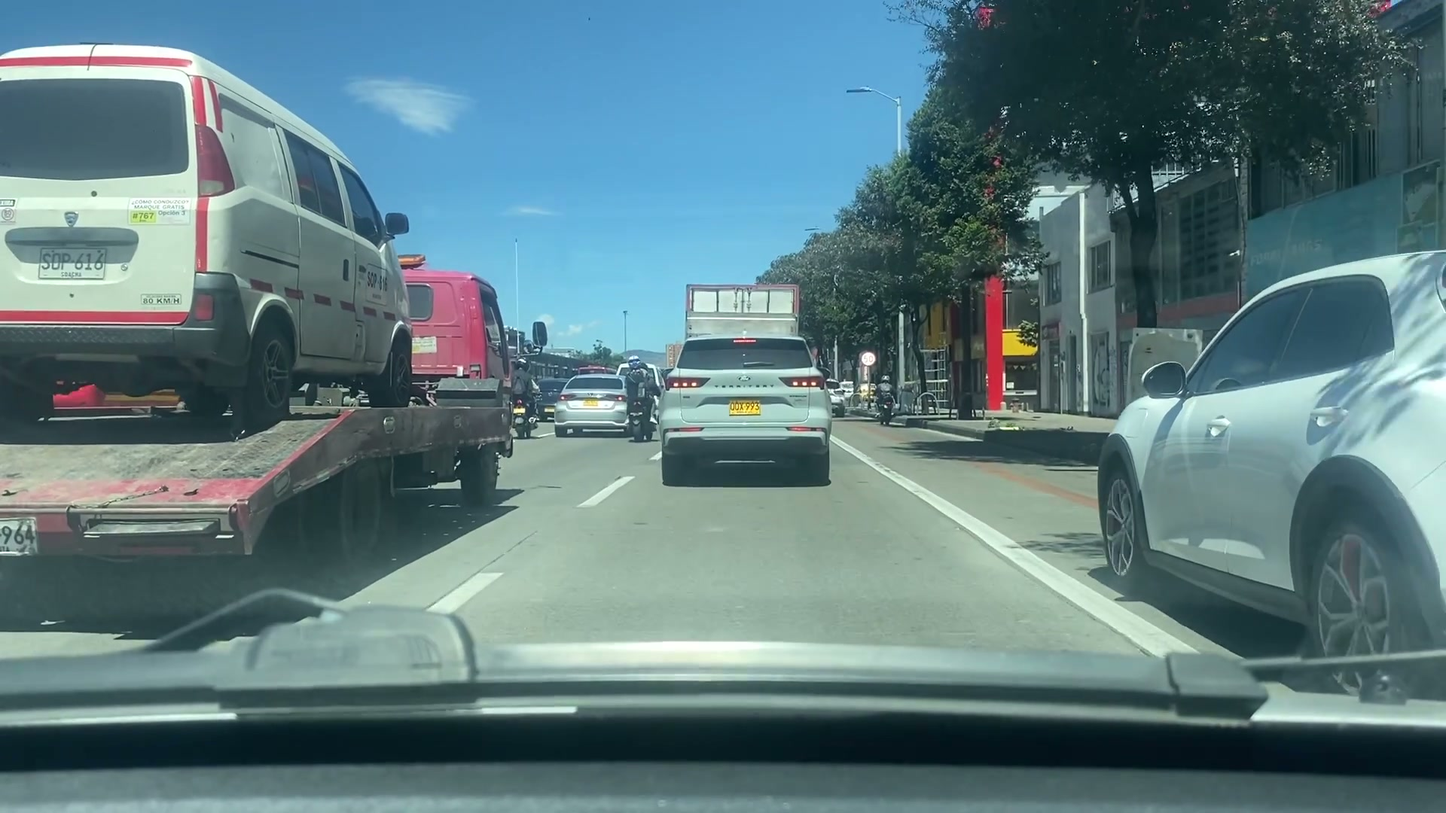bus: (0, 43, 419, 416)
car: (1089, 247, 1446, 703), (664, 336, 831, 485), (553, 373, 640, 433)
motorcycle: (507, 389, 547, 440), (625, 393, 658, 439)
person: (622, 354, 665, 443), (505, 356, 542, 424)
truck: (1, 268, 548, 596), (685, 282, 797, 339)
